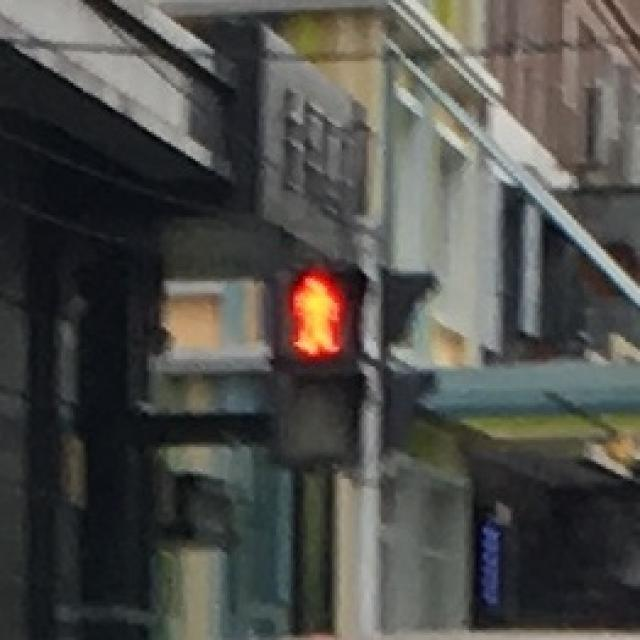red-crossing: (278, 271, 352, 364)
